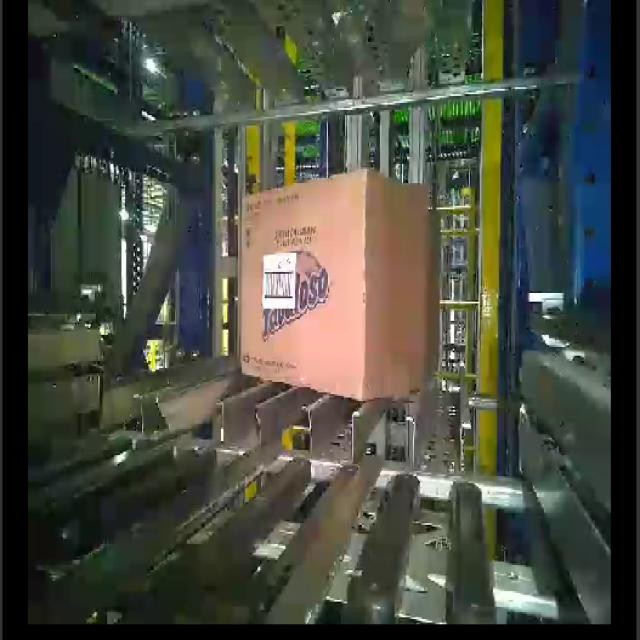box: (240, 167, 367, 403)
